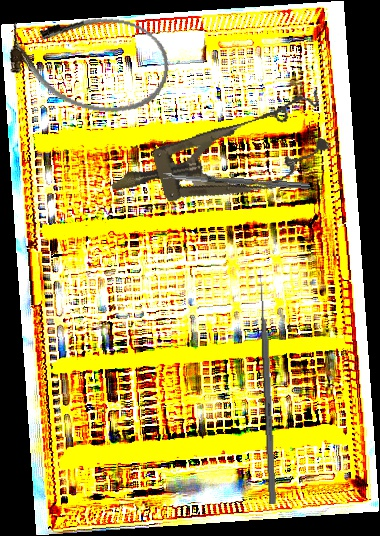Cannula: (0, 0, 178, 123)
Pusher: (256, 269, 278, 505)
Speculum: (100, 87, 340, 229)
Surgical Spoon: (162, 171, 311, 190)
